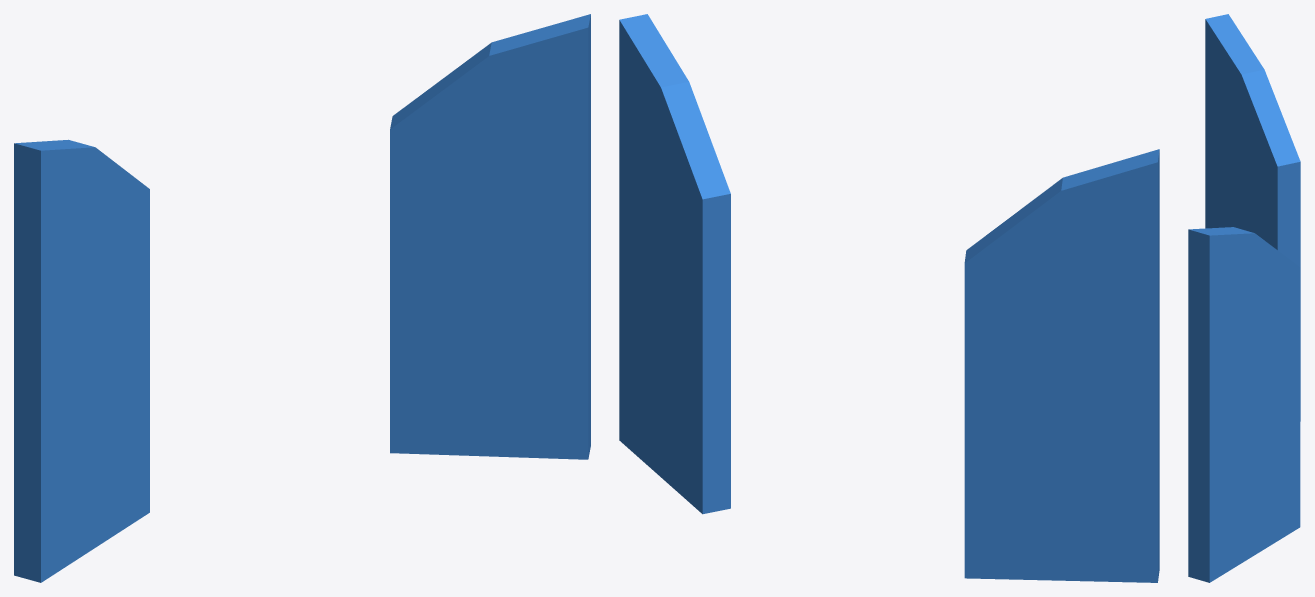
File: Collision_WindowShutters_Wide_Round_Open.fbx
3 views of the same model, side by side, from view 1: azimuth 30°, elevation 25°; view 2: azimuth 150°, elevation 25°; view 3: azimuth 270°, elevation 25° (orthographic). The views are drawn at different scales.
Visible parts, largest first — view 1: UCX_WindowShutters_Wide_Round_Open_1; view 2: UCX_WindowShutters_Wide_Round_Open_1; view 3: UCX_WindowShutters_Wide_Round_Open_1.
Boxes of the visible parts, x1,y1,x2,y2 form: UCX_WindowShutters_Wide_Round_Open_1: (14, 14, 590, 582); UCX_WindowShutters_Wide_Round_Open_1: (619, 14, 1159, 582); UCX_WindowShutters_Wide_Round_Open_1: (1188, 14, 1300, 582).
Size of the model in its own units: 234 by 171 by 50.21.
